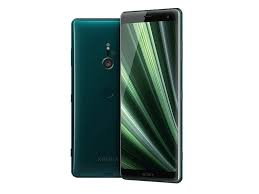sony: (117, 4, 184, 183)
